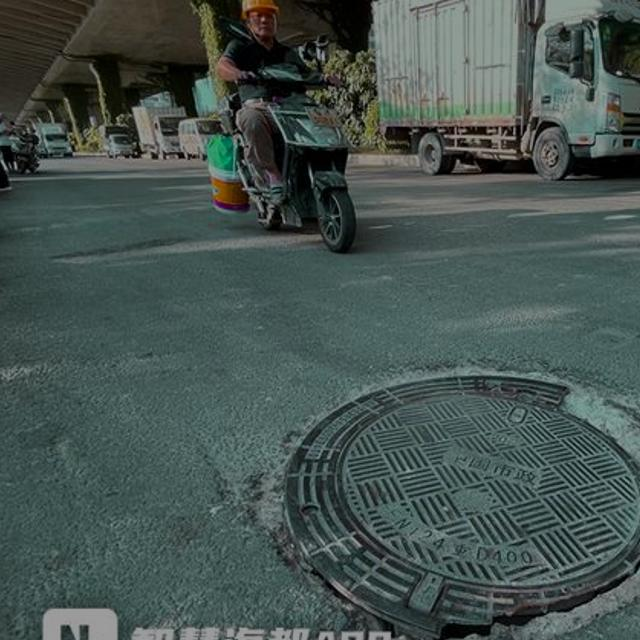circle: (202, 329, 640, 640)
